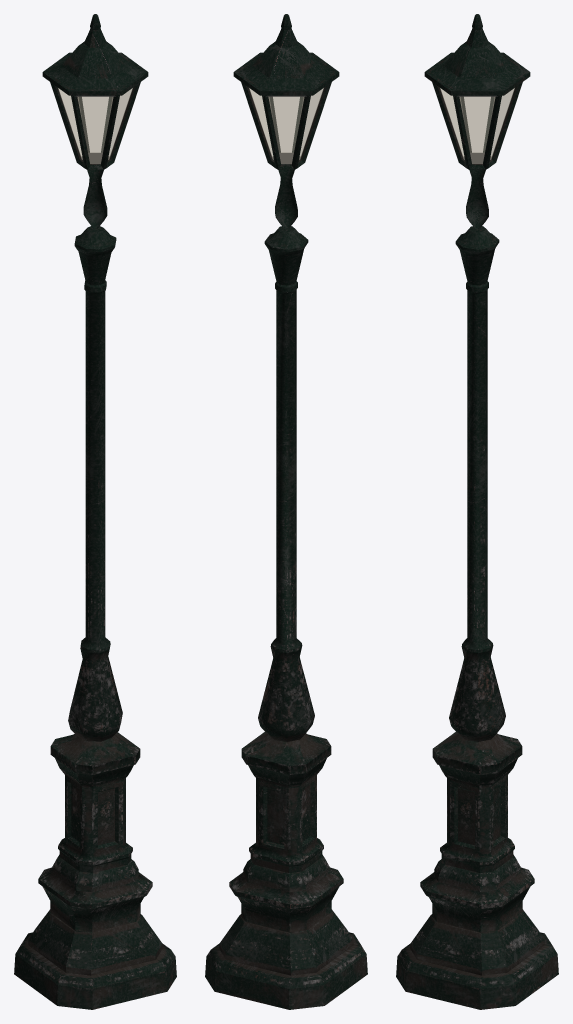
The model's file is SM_StreetLamp_Simple.glb.
The picture shows the model from 3 angles, left to right: view 1: azimuth 30°, elevation 25°; view 2: azimuth 150°, elevation 25°; view 3: azimuth 330°, elevation 25°; orthographic projection.
Parts seen in each view (by area): view 1: SM_StreetLamp_Base, SM_StreetLamp_Lantern, SM_StreetLamp_Glass; view 2: SM_StreetLamp_Base, SM_StreetLamp_Lantern, SM_StreetLamp_Glass; view 3: SM_StreetLamp_Base, SM_StreetLamp_Lantern, SM_StreetLamp_Glass.
Part boxes in pixels (<box>): SM_StreetLamp_Base: <box>14,226,176,1009</box>; SM_StreetLamp_Lantern: <box>42,14,148,228</box>; SM_StreetLamp_Glass: <box>58,88,132,163</box>; SM_StreetLamp_Base: <box>205,226,367,1009</box>; SM_StreetLamp_Lantern: <box>233,14,339,228</box>; SM_StreetLamp_Glass: <box>249,88,323,163</box>; SM_StreetLamp_Base: <box>396,226,558,1009</box>; SM_StreetLamp_Lantern: <box>424,14,530,228</box>; SM_StreetLamp_Glass: <box>440,88,514,163</box>.
Size of the model in its own units: 0.5746 by 4.41 by 0.5746.
3 materials, 1 textured.
